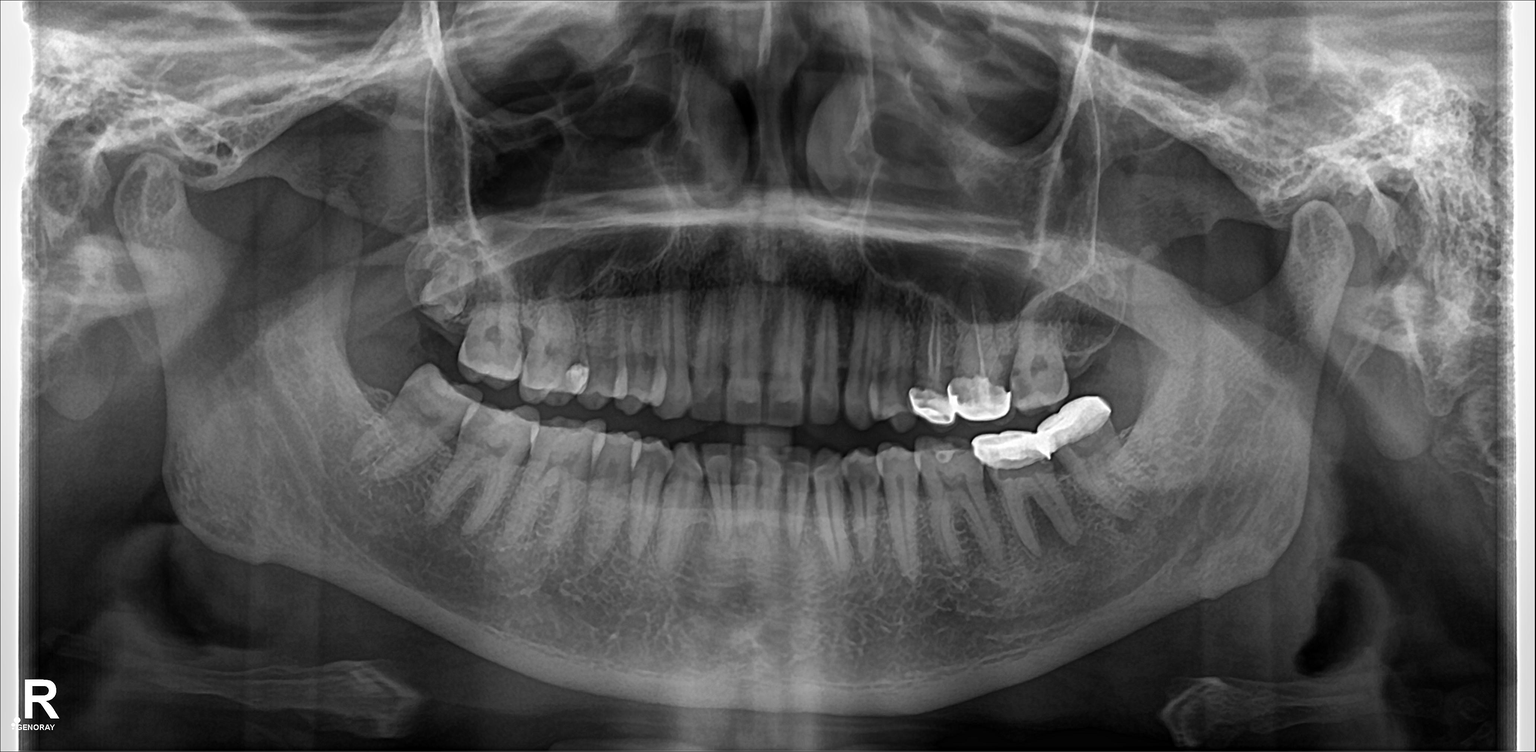Endodontically Treated Tooth: (950, 307, 1006, 419), (920, 307, 955, 429)
Impacted Third Molar: (417, 242, 474, 325)
Missing Tooth: (350, 235, 417, 355), (1058, 303, 1119, 380), (335, 367, 386, 441)
